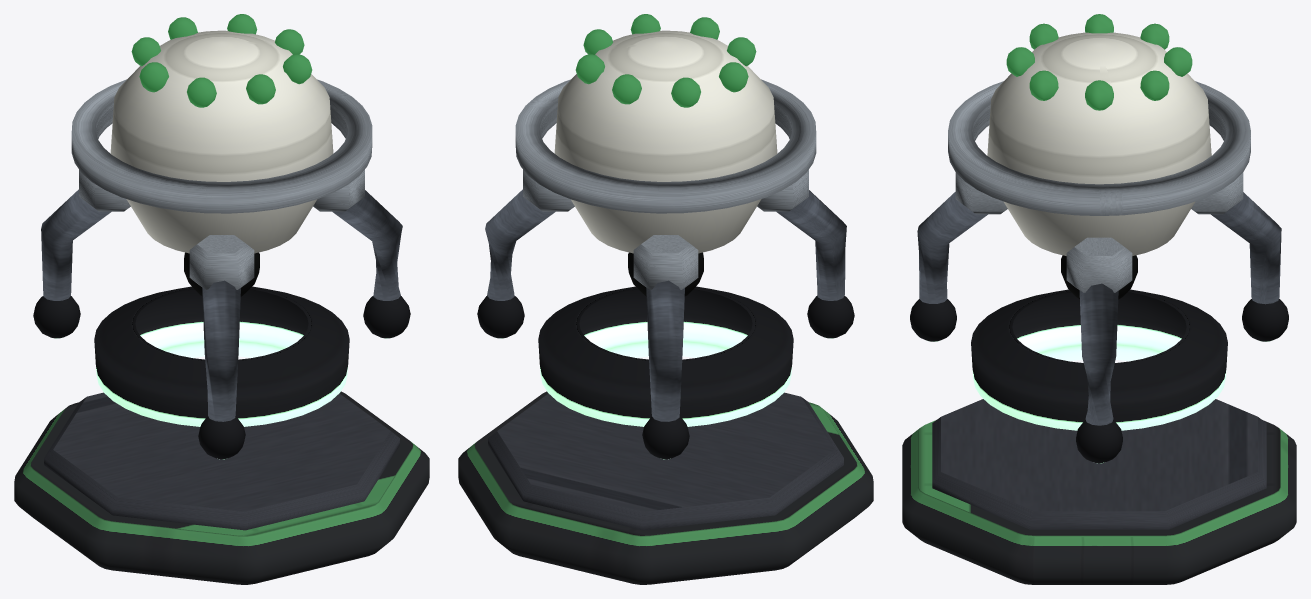
Rendered from focus.glb.
3 views of the same model, side by side, from view 1: azimuth 30°, elevation 25°; view 2: azimuth 150°, elevation 25°; view 3: azimuth 270°, elevation 25° (orthographic).
Visible parts, largest first — view 1: FocusHull; view 2: FocusHull; view 3: FocusHull.
Boxes of the visible parts, <box> form: FocusHull: <box>14,14,429,584</box>; FocusHull: <box>458,14,873,584</box>; FocusHull: <box>902,14,1296,584</box>.
Size of the model in its own units: 0.3791 by 0.47 by 0.3622.
Materials: 1 (1 with a texture image).
